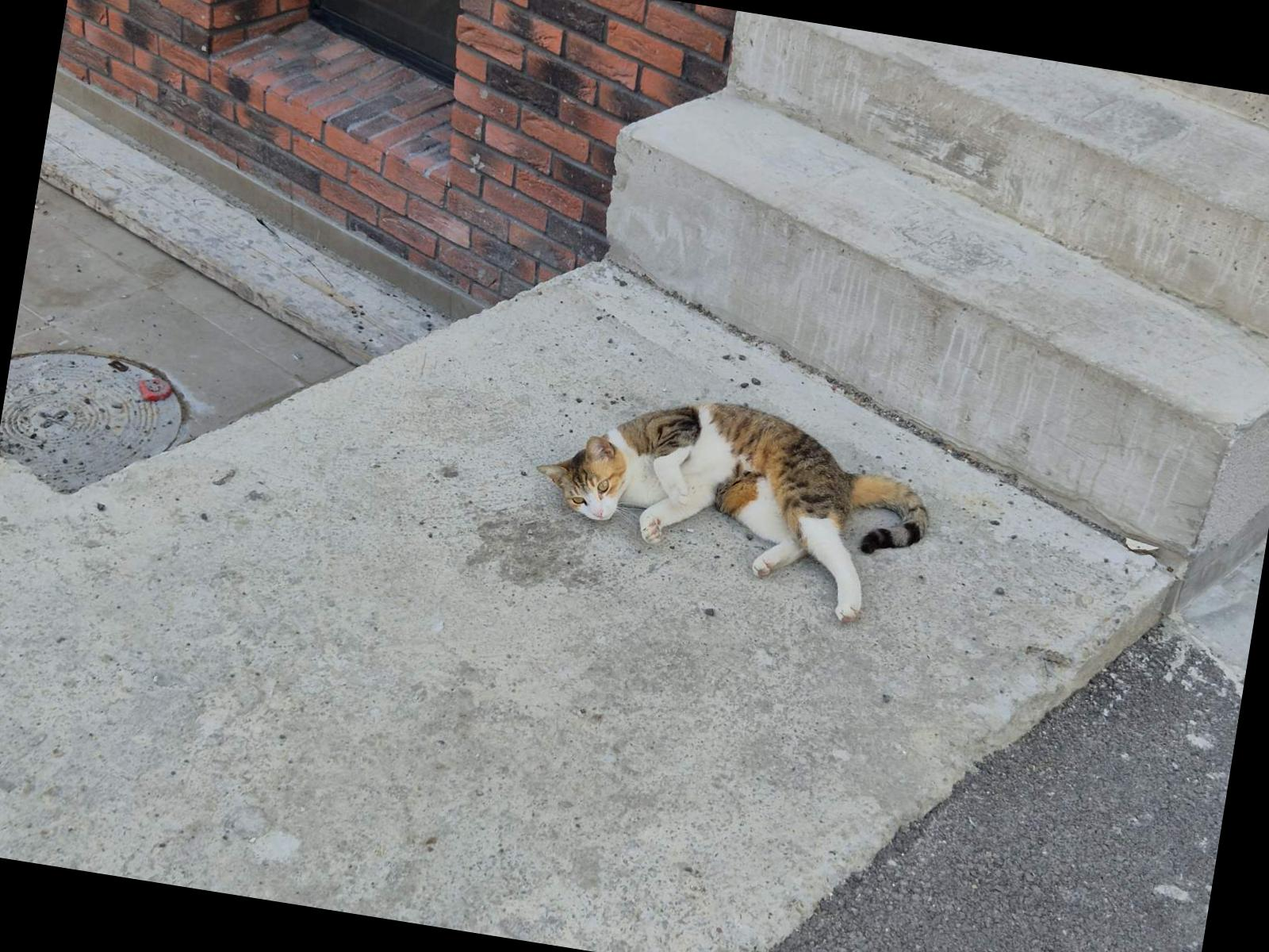macka: (520, 373, 941, 633)
